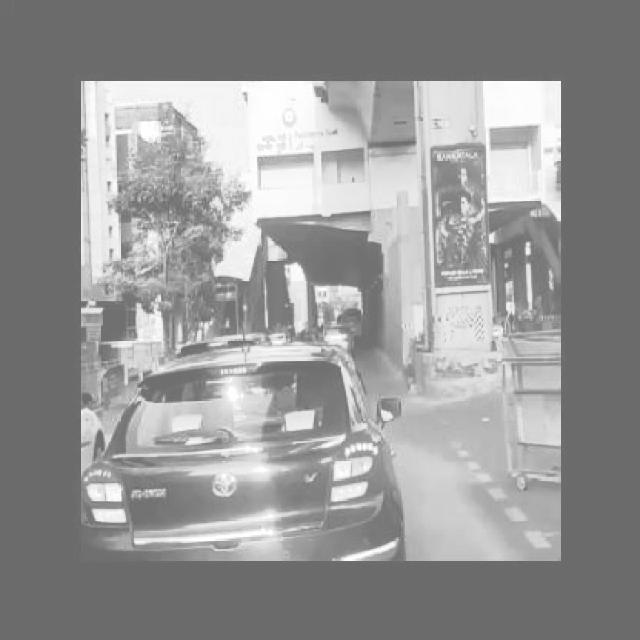Car: (86, 324, 403, 560)
